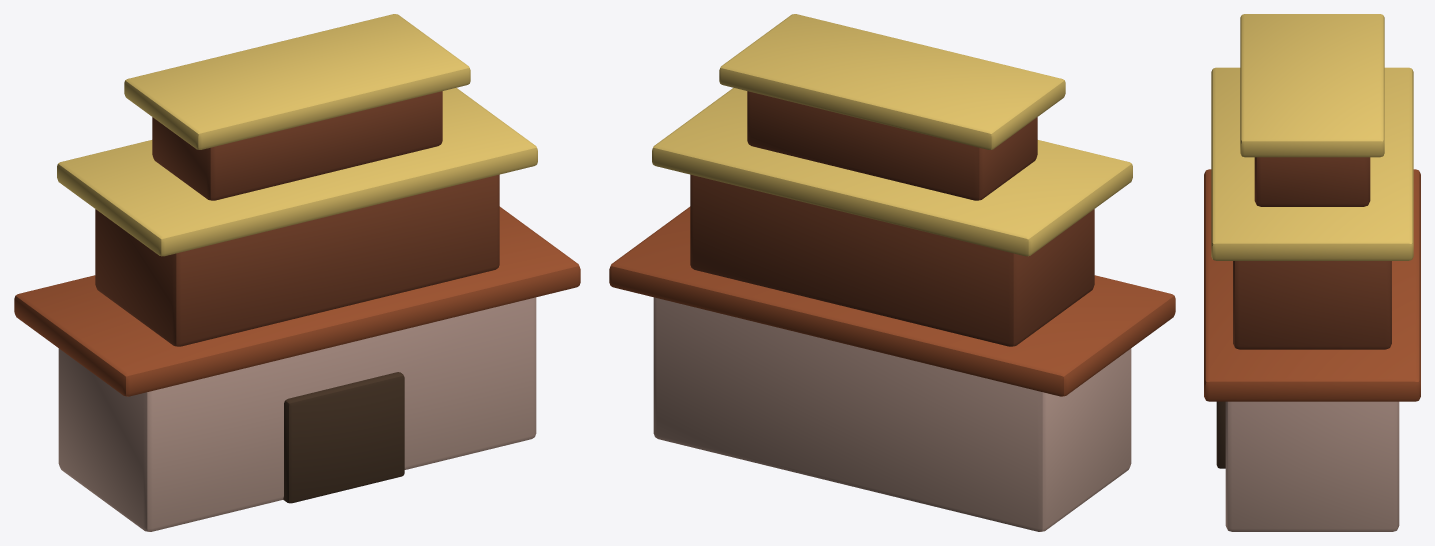
The picture shows the model from 3 angles, left to right: view 1: azimuth 30°, elevation 25°; view 2: azimuth 150°, elevation 25°; view 3: azimuth 270°, elevation 25°; orthographic projection. The views are drawn at different scales.
Parts seen in each view (by area): view 1: landmark_380ebd26; view 2: landmark_380ebd26; view 3: landmark_380ebd26.
Boxes of the visible parts, x1,y1,x2,y2 form: landmark_380ebd26: (14,14,580,531); landmark_380ebd26: (609,14,1175,531); landmark_380ebd26: (1204,14,1420,531).
Size of the model in its own units: 7 by 5.59 by 3.
